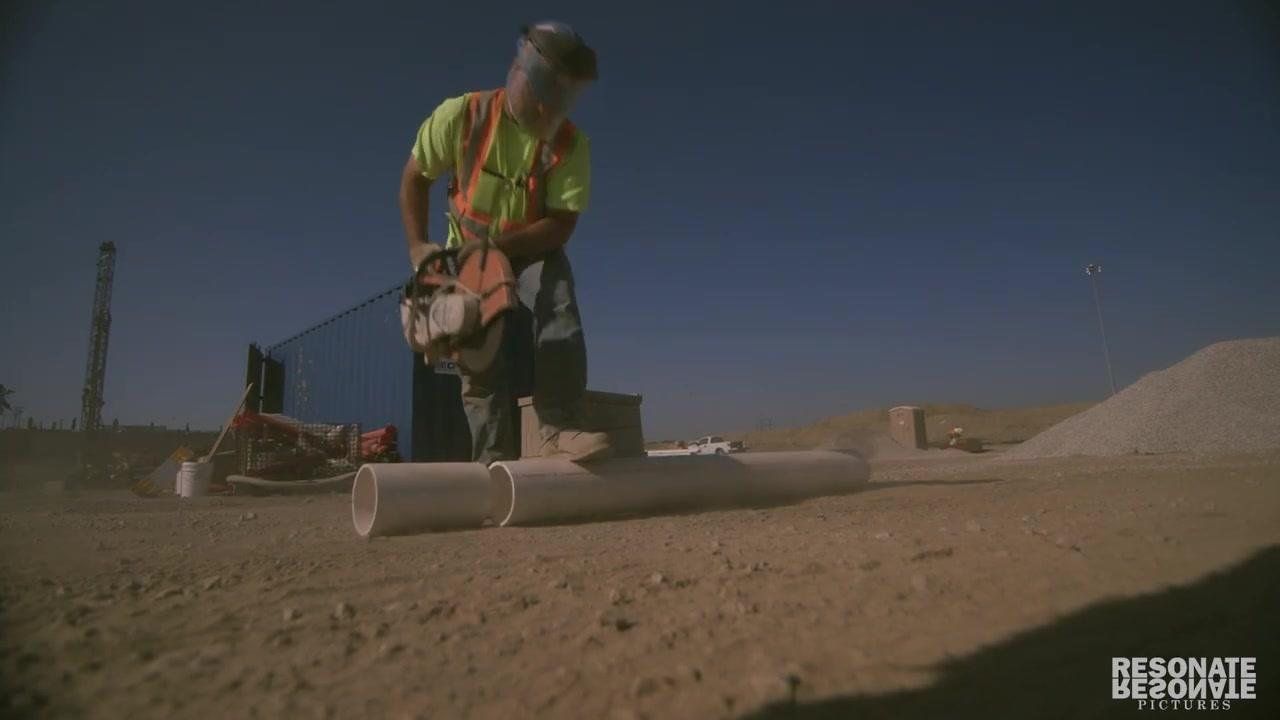vest: (402, 85, 596, 248)
